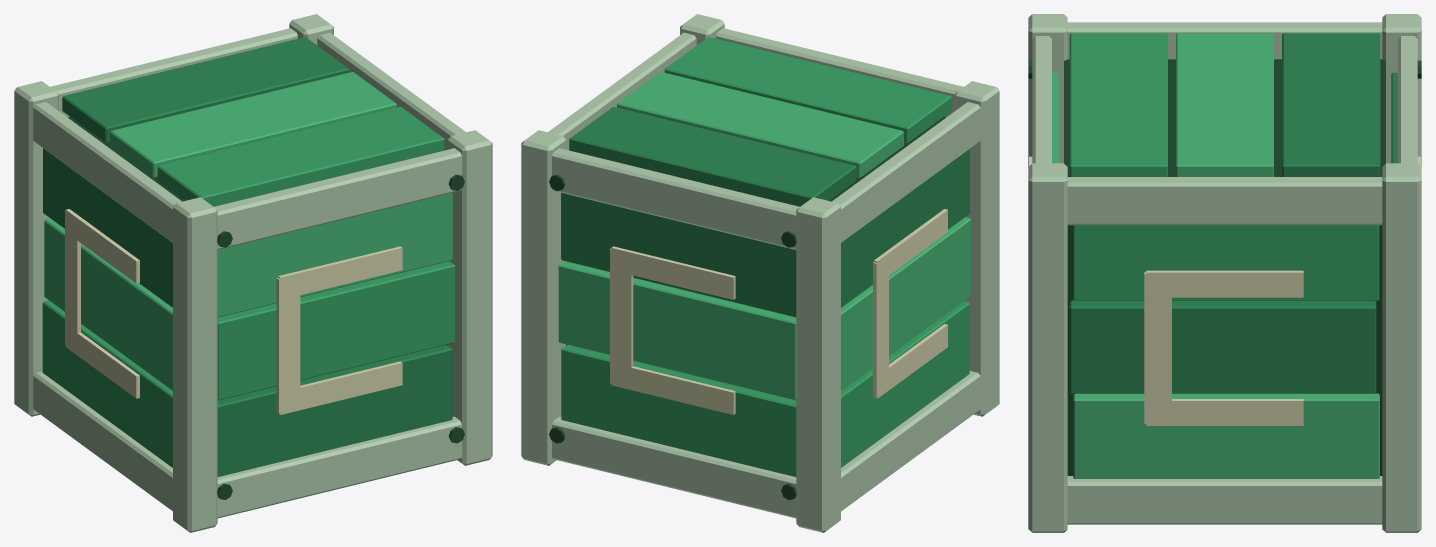
Rendered from SM_crate_checkpoint.glb.
3 views of the same model, side by side, from view 1: azimuth 30°, elevation 25°; view 2: azimuth 150°, elevation 25°; view 3: azimuth 270°, elevation 25° (orthographic). The views are drawn at different scales.
Parts seen in each view (by area): view 1: SM_crate_checkpoint; view 2: SM_crate_checkpoint; view 3: SM_crate_checkpoint.
Part boxes in pixels (x1,y1,x2,y2): SM_crate_checkpoint: (14,14,492,532); SM_crate_checkpoint: (521,14,999,532); SM_crate_checkpoint: (1028,14,1421,532).
Size of the model in its own units: 1 by 1 by 1.
